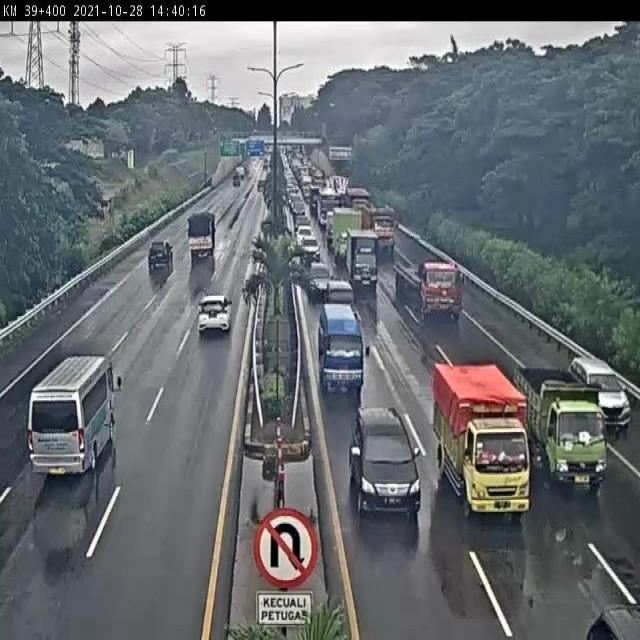bus-s-: (316, 301, 369, 395)
car: (348, 403, 426, 520), (566, 356, 633, 429), (199, 295, 232, 336), (325, 278, 358, 314), (305, 257, 331, 300), (147, 238, 172, 270), (299, 235, 322, 264)
small bus: (25, 350, 117, 482)
small truck: (187, 212, 216, 256)
truck-l-: (360, 204, 398, 259)
truck-m-: (432, 361, 531, 519), (514, 367, 608, 488), (348, 228, 381, 292), (333, 205, 363, 264)
truck-xl-: (396, 260, 461, 321)
